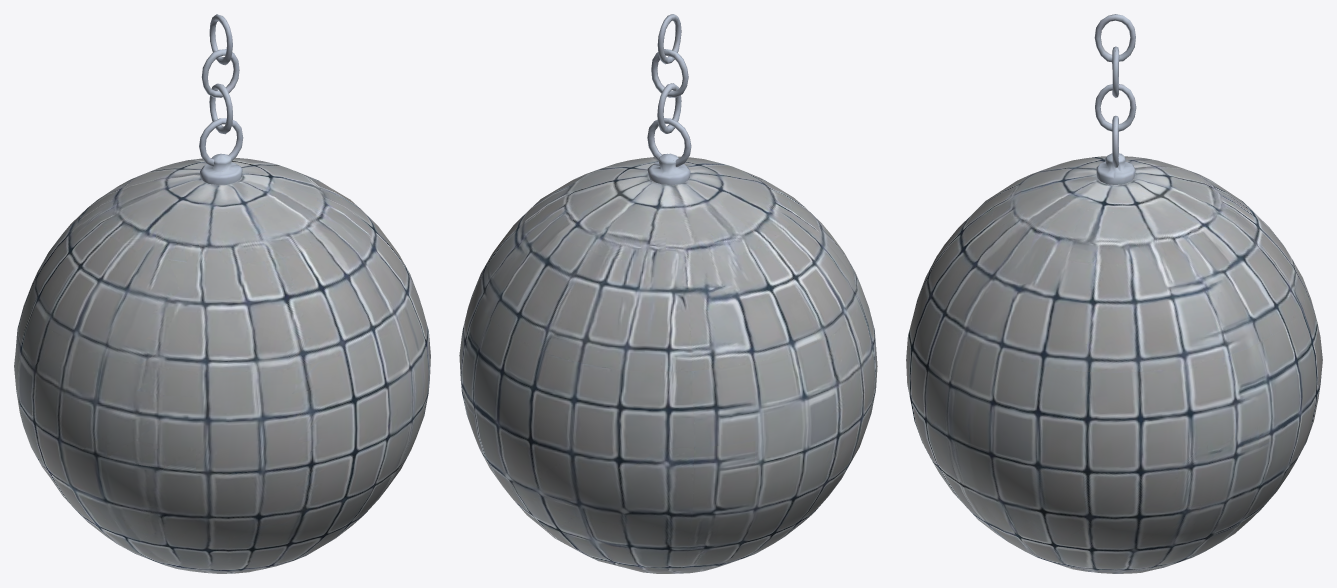
File: club-ball.glb
3 views of the same model, side by side, from view 1: azimuth 30°, elevation 25°; view 2: azimuth 150°, elevation 25°; view 3: azimuth 270°, elevation 25° (orthographic).
Visible parts, largest first — view 1: geometry_0; view 2: geometry_0; view 3: geometry_0.
Boxes of the visible parts, bbox=[...] form: geometry_0: bbox=[14, 14, 430, 573]; geometry_0: bbox=[459, 14, 877, 573]; geometry_0: bbox=[906, 14, 1322, 573].
Bounding box in the file's own units: 0.7061 × 1 × 0.7011.
1 material, 1 textured.
